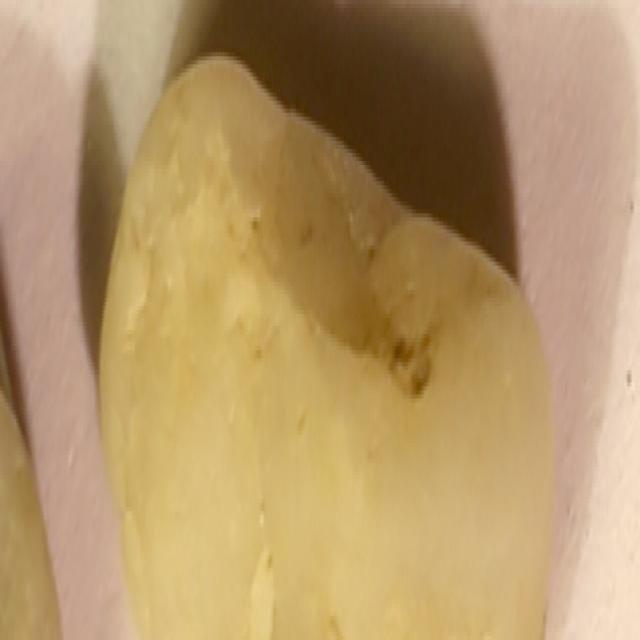stone: (86, 1, 562, 640)
